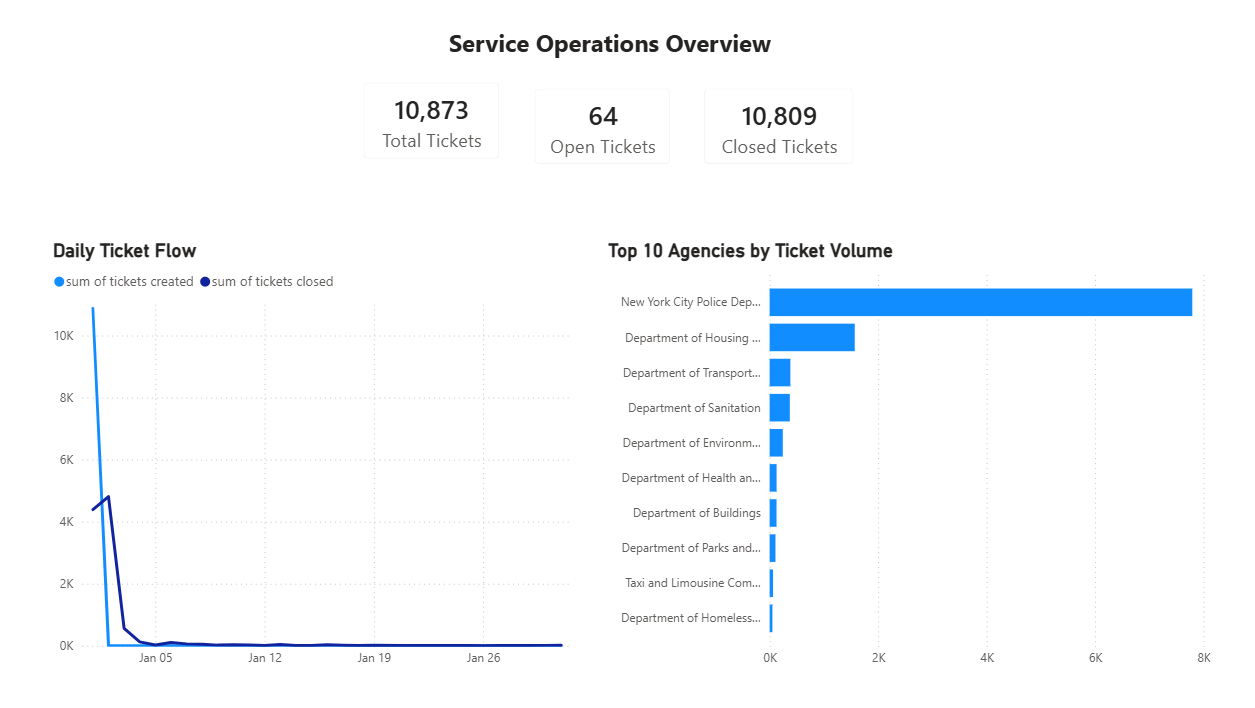

The page's visual inventory and layout, read from the dashboard file:
{"tool":"powerbi","page":{"name":"Operations Overview","canvas":[1280,720],"ordinal":0},"visuals":[{"type":"textbox","box":[353.3,22.4,538,44],"z":0},{"type":"cardVisual","fields":{"Data":["reporting vw_agency_performance.Open Tickets"]},"box":[528.3,73.9,171.7,110],"z":1000},{"type":"cardVisual","fields":{"Data":["reporting vw_agency_performance.Total Tickets Display"]},"box":[356.7,68.9,171.7,111.7],"z":2000},{"type":"cardVisual","fields":{"Data":["reporting vw_agency_performance.Closed Tickets"]},"box":[700,73.9,185,110],"z":3000},{"type":"lineChart","title":"Daily Ticket Flow","fields":{"Y":["Sum(reporting vw_daily_ticket_flow.tickets_created)","Sum(reporting vw_daily_ticket_flow.tickets_closed)"],"Category":["reporting vw_daily_ticket_flow.report_date"]},"box":[55,243.3,540,440],"z":4000},{"type":"clusteredBarChart","title":"Top 10 Agencies by Ticket Volume","fields":{"Category":["reporting vw_agency_performance.agency_name"],"Y":["Sum(reporting vw_agency_performance.total_tickets)"]},"box":[615,243.3,618.3,440],"z":5000}]}

Visuals, with their boxes in screenshot pixels (x1, y1, x2, y2), scaled from the page's 1280x720 canvas onto the 1255x708 screenshot:
textbox: detection(346, 22, 874, 65)
cardVisual - reporting vw_agency_performance.Open Tickets: detection(518, 73, 686, 181)
cardVisual - reporting vw_agency_performance.Total Tickets Display: detection(350, 68, 518, 178)
cardVisual - reporting vw_agency_performance.Closed Tickets: detection(686, 73, 868, 181)
"Daily Ticket Flow" lineChart: detection(54, 239, 583, 672)
"Top 10 Agencies by Ticket Volume" clusteredBarChart: detection(603, 239, 1209, 672)
